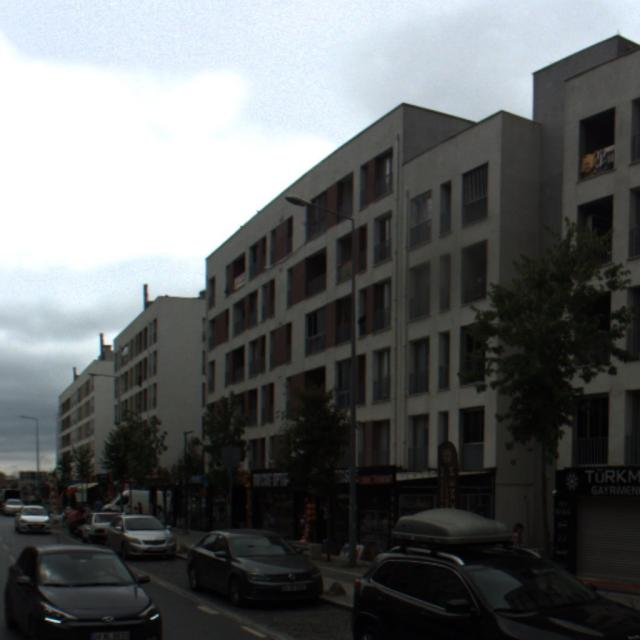SignStore: (250, 467, 359, 490), (564, 467, 636, 499)
